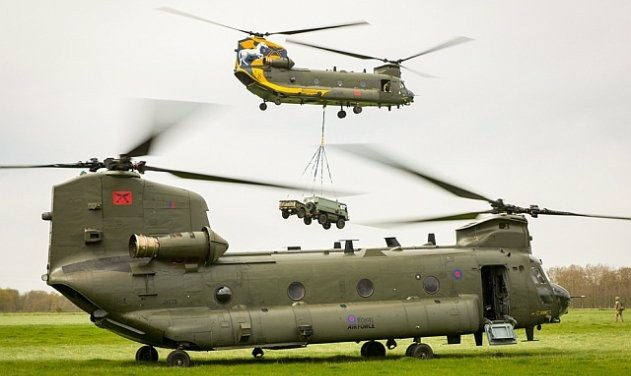HMMWV: (279, 183, 352, 232)
chinook: (32, 152, 585, 368), (222, 27, 428, 131)
